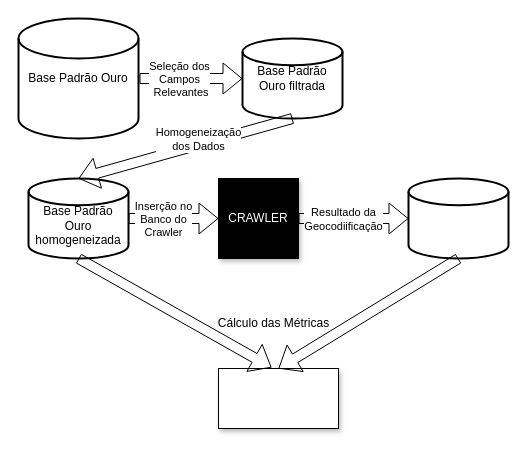
Image size: 526x453. Some labels were removed from this diagram. Each missing label, with the centre of its shape:
"Base Resultado da Geocodificação" belongs at [458,218].
"Erro e Métricas" belongs at [279,400].
